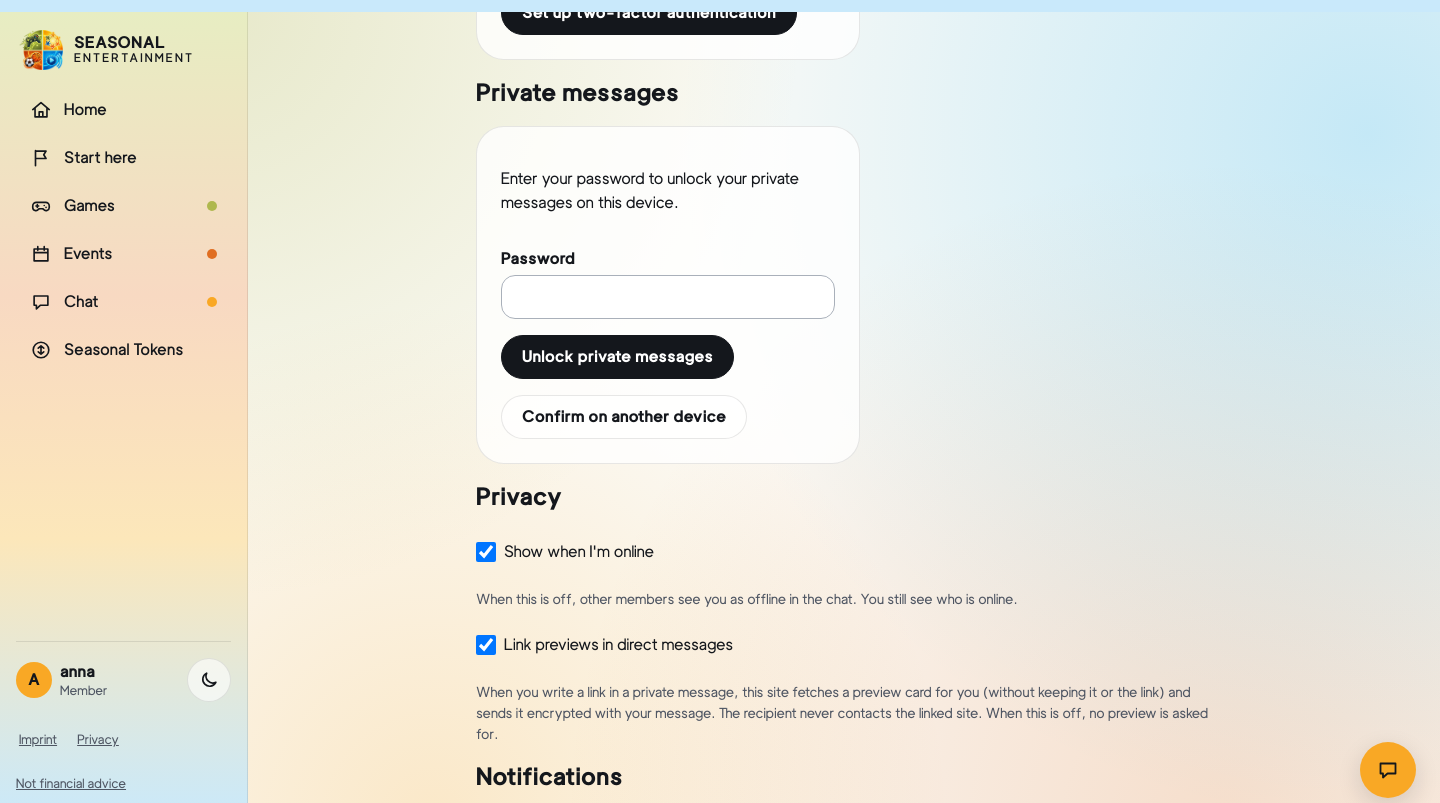
Test: the new device › a key that is not the account's is refused
The image size is (1440, 803).
(page scrolled)
Click the button "Confirm on another device".
click(624, 417)  # box [501,395,747,439]
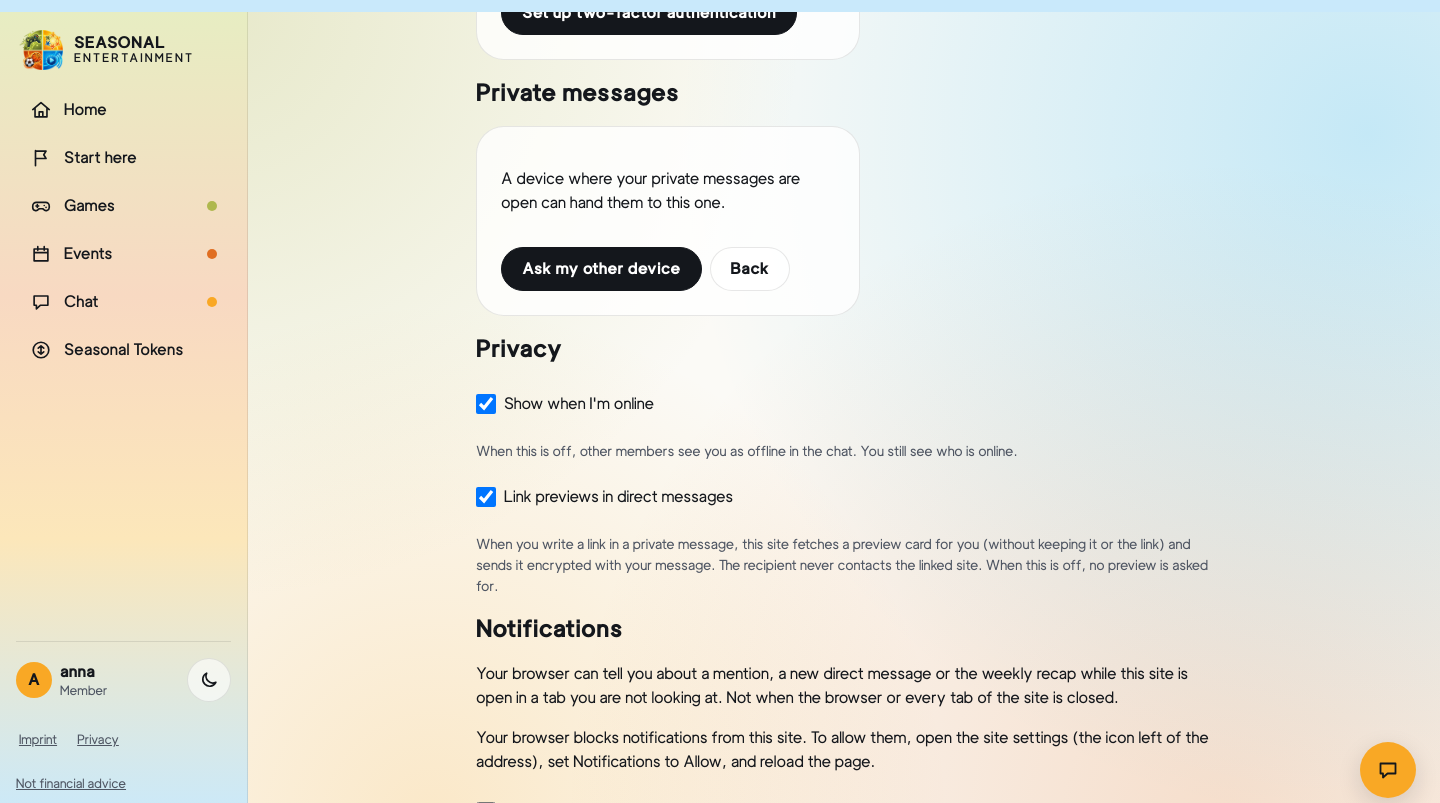
Click the button "Ask my other device".
click(601, 269)  # box [501,247,702,291]
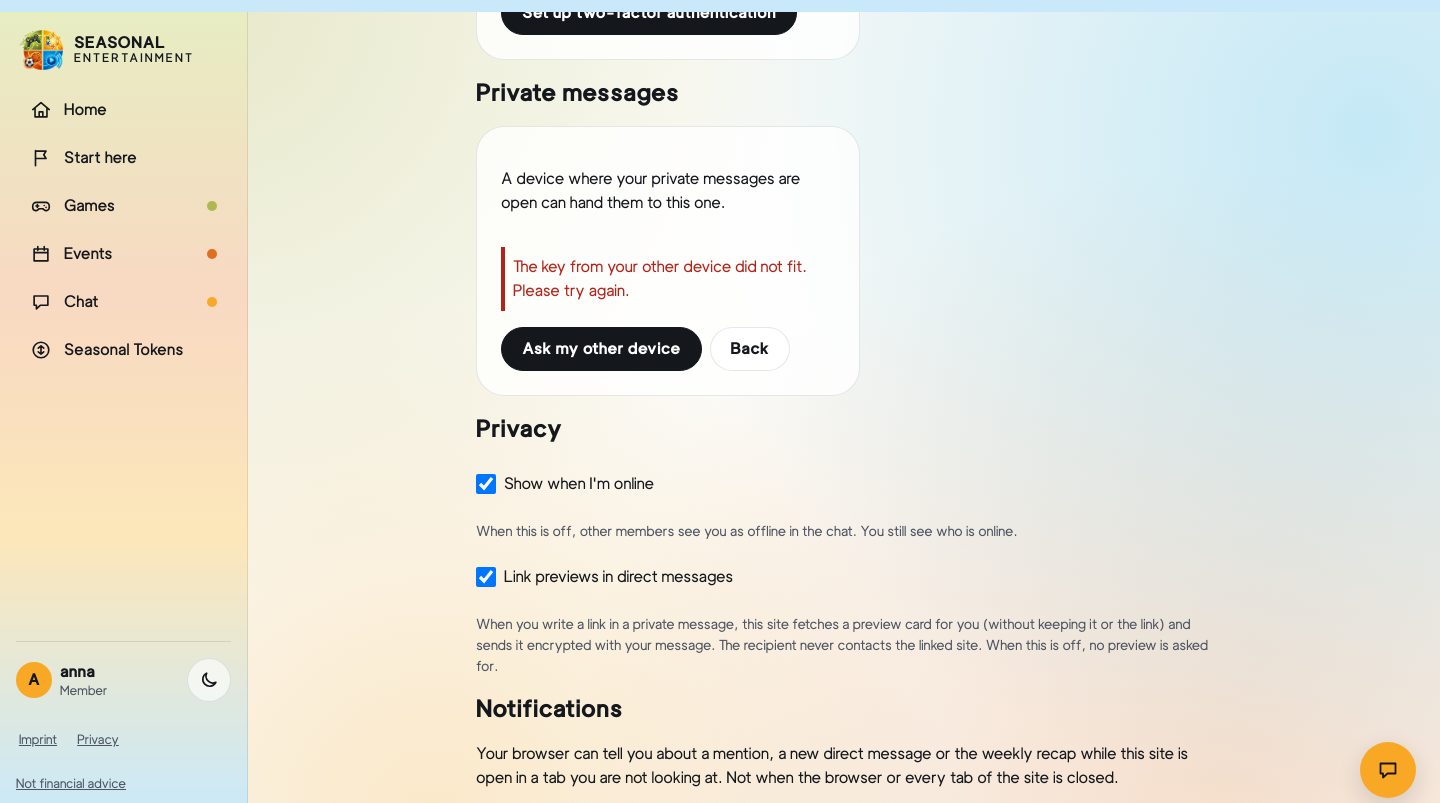
Expected: the text "The key from your other device did not fit. Please try again." is shown, [501,247,835,311]
